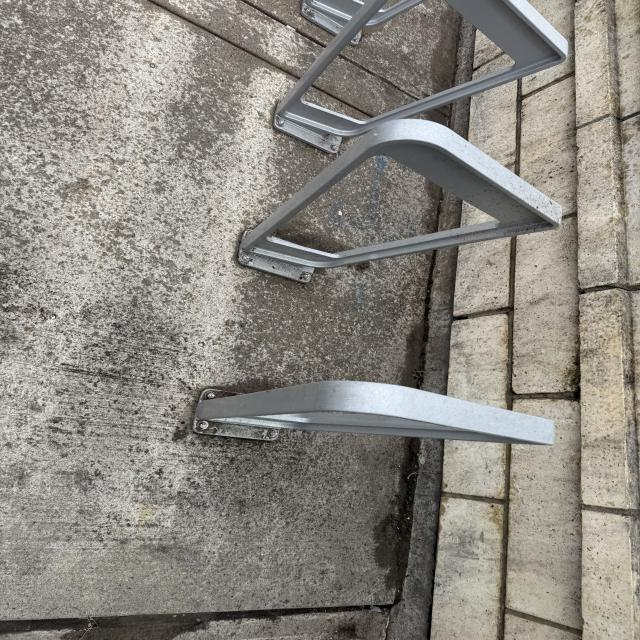Bicycle Rack: (238, 124, 564, 282), (272, 0, 569, 132), (195, 379, 552, 451)
